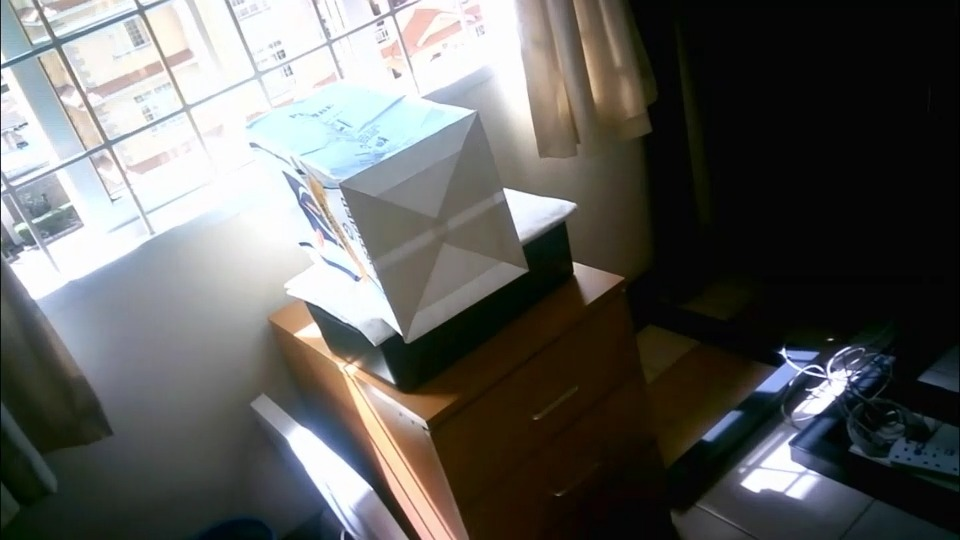wheat_flour_blue_label: (250, 82, 528, 339)
